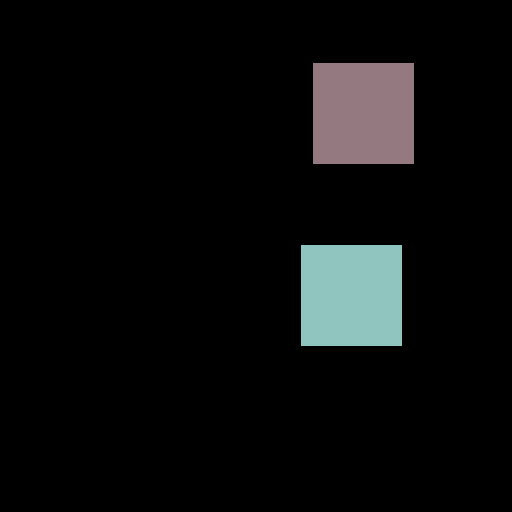square: (301, 245, 401, 345), (313, 63, 413, 163)
